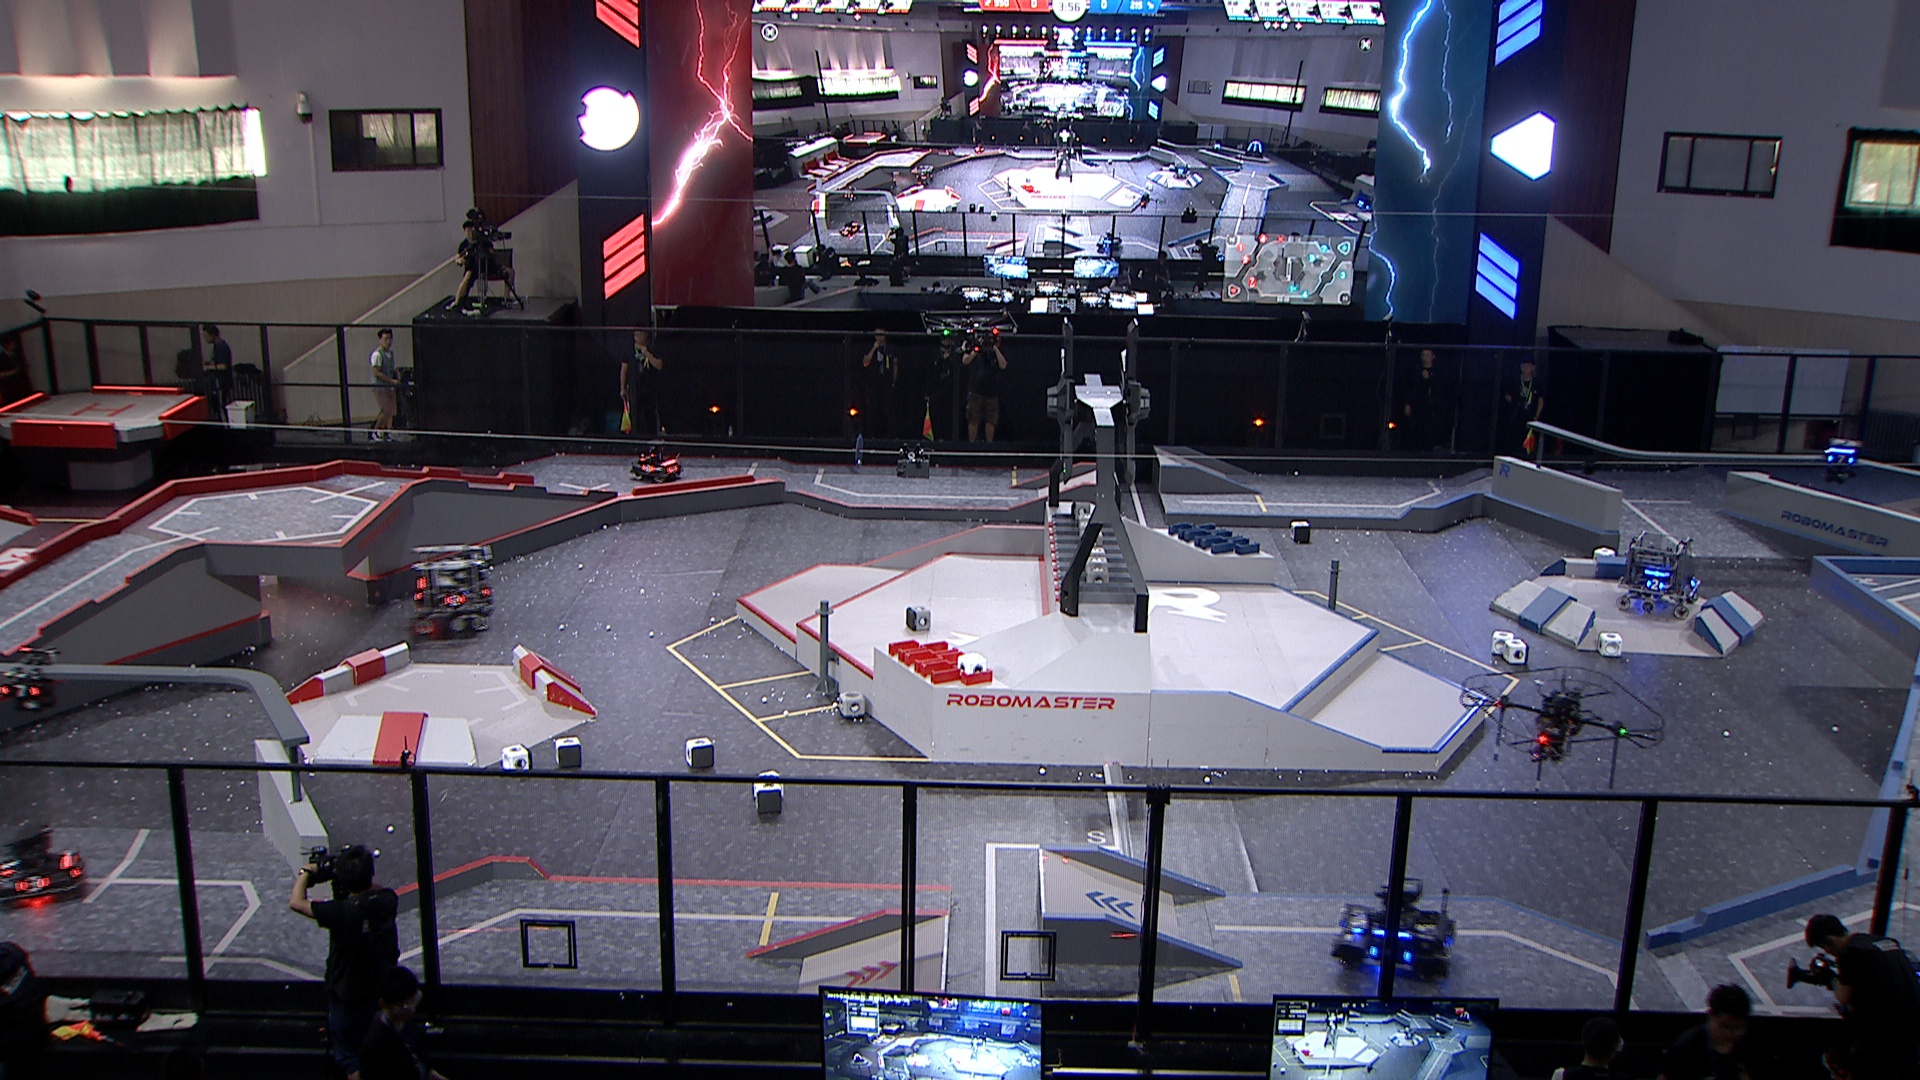armor: (13, 876, 51, 893), (0, 683, 41, 699), (1348, 913, 1367, 938), (1443, 934, 1458, 963), (443, 591, 467, 608), (1826, 454, 1855, 465), (1646, 578, 1667, 593), (0, 860, 18, 877), (641, 462, 657, 476), (666, 463, 680, 476)
car: (1332, 877, 1461, 982), (410, 541, 496, 637), (1614, 531, 1704, 618), (629, 439, 684, 485)
ignore: (911, 164, 936, 189), (1096, 232, 1122, 253), (1244, 140, 1266, 160), (839, 222, 862, 239), (844, 183, 858, 204), (1174, 164, 1192, 179), (1356, 196, 1375, 211), (1211, 142, 1224, 153)
watcher: (0, 646, 61, 712), (1825, 436, 1865, 485)
